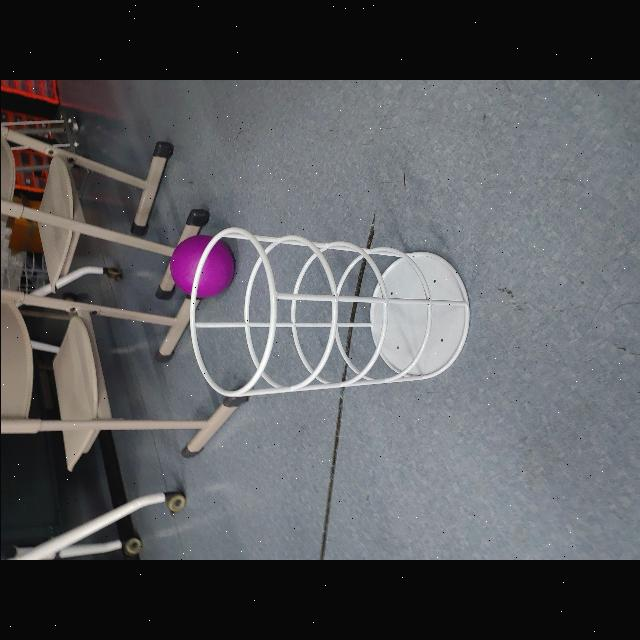S: (186, 224, 472, 400)
